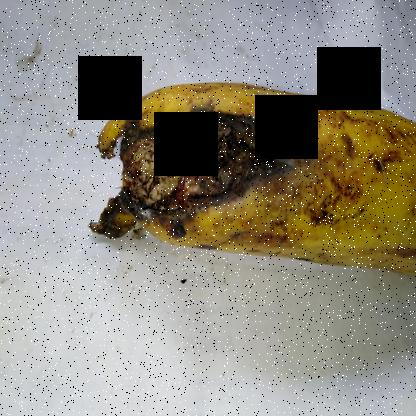ripe: (270, 78, 416, 289)
rotten: (75, 67, 291, 264)
